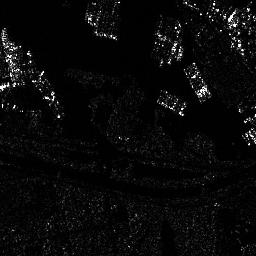ship: (155, 88, 187, 116)
